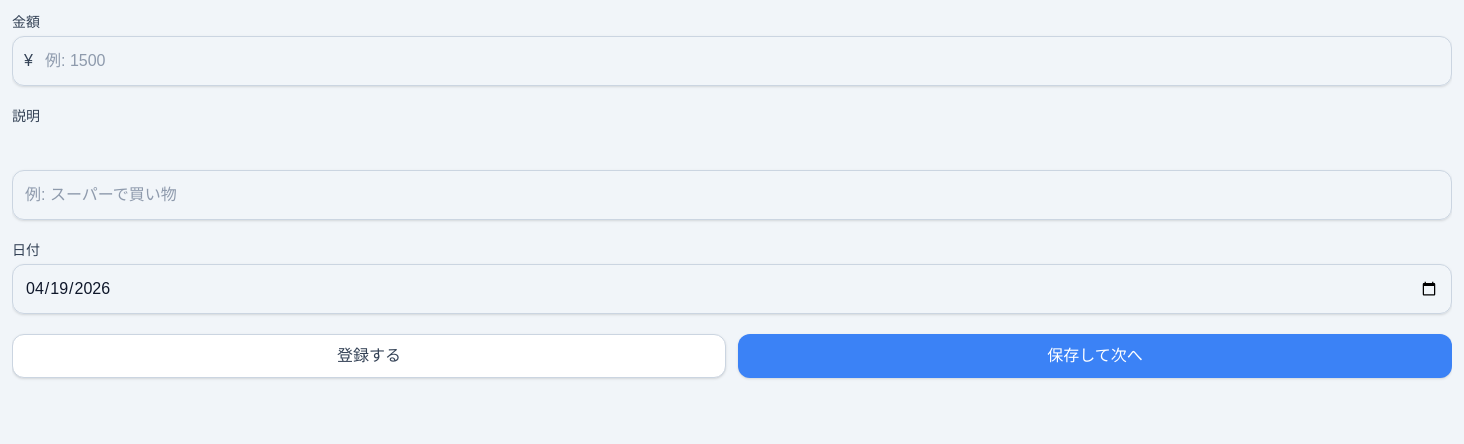
it: PaymentForm › バリデーションエラー表示 › 複数のエラーがある場合すべて表示する
The image size is (1464, 444).
# すべて空のまま送信
Click the button "登録する": (369, 356) [12,334,726,378]
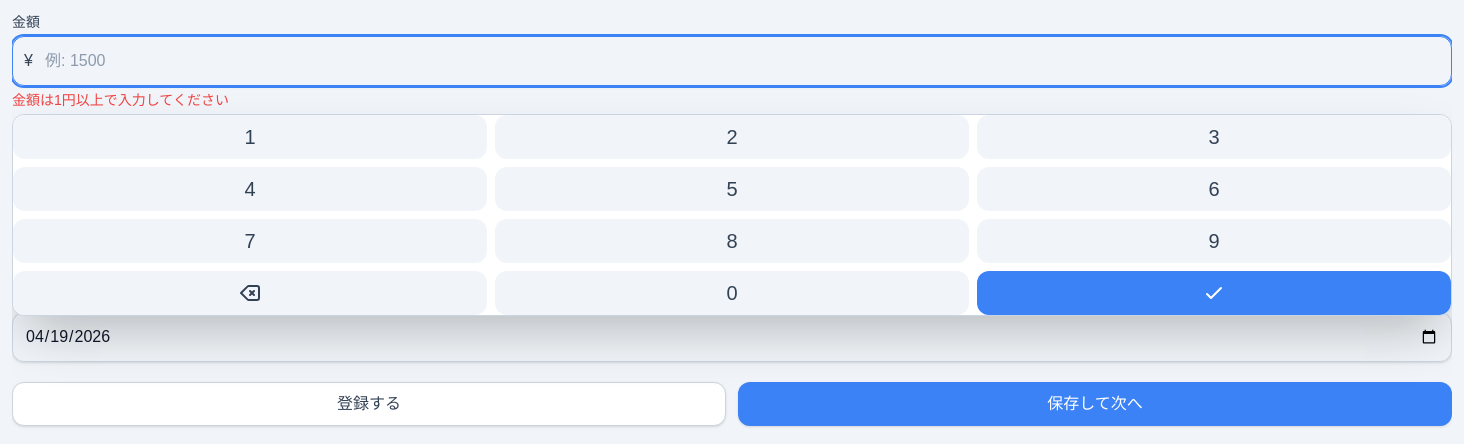
Now the text "金額は1円以上で入力してください" is shown, box [12,92,229,108]
Now the text "説明を入力してください" is shown, box [12,250,165,266]
